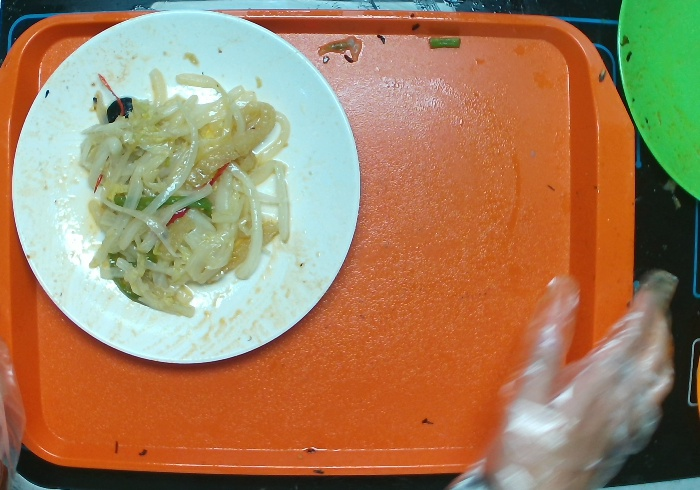HZYJPL-Bai_Se_Yuan_Pan: (9, 7, 370, 380)
